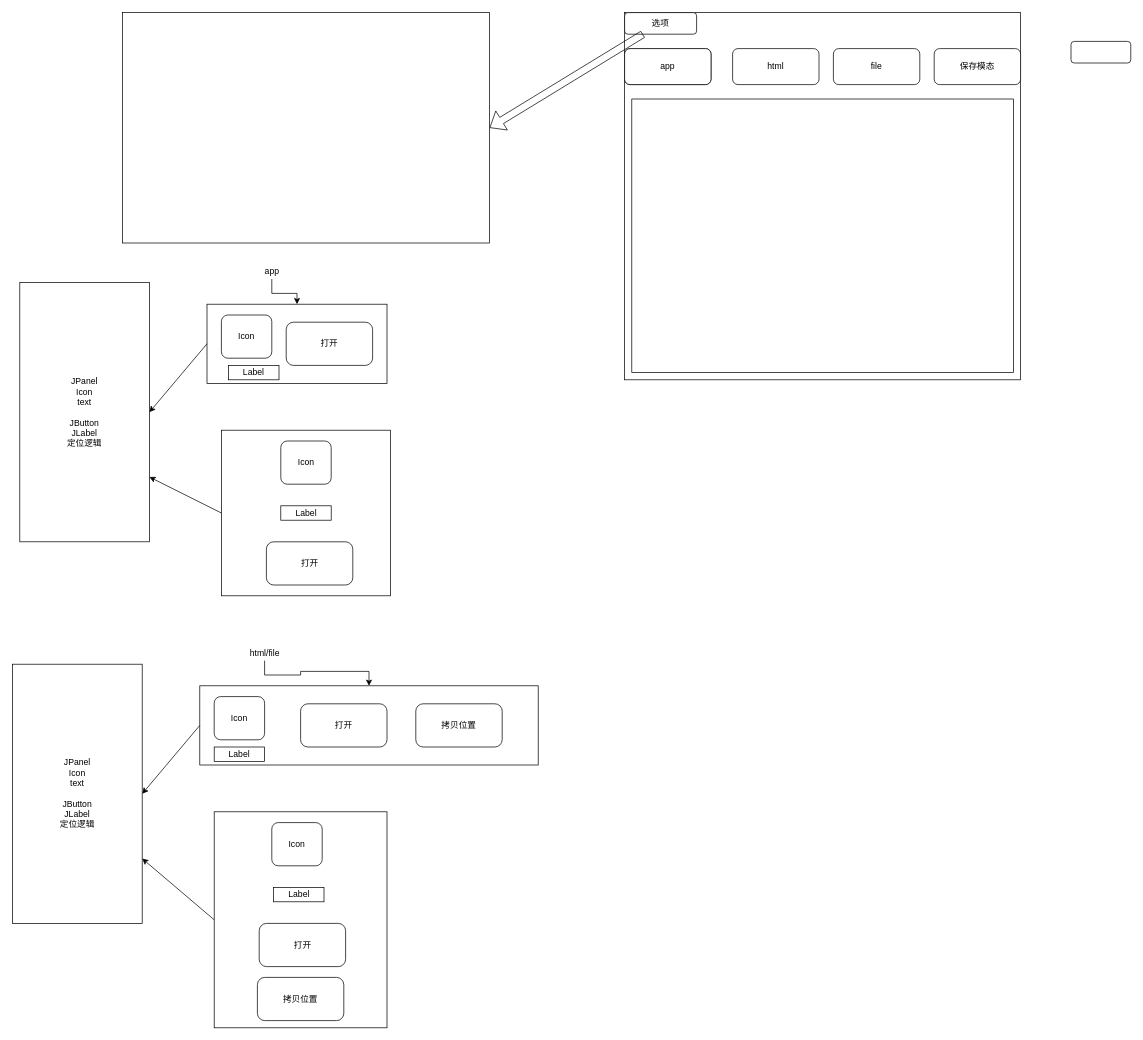
Some shapes in this 1143 by 1040 pixel diagram are drawn without their labels. Each missing label, with the centre of its shape:
"button" belongs at (x=1100, y=52).
"JPanel" belongs at (x=822, y=235).
"settings" belongs at (x=306, y=127).
